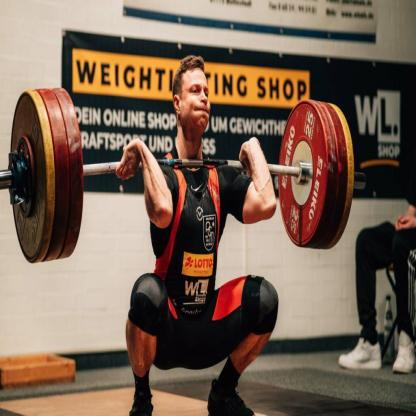barbell: (279, 99, 331, 250), (10, 92, 49, 264)
